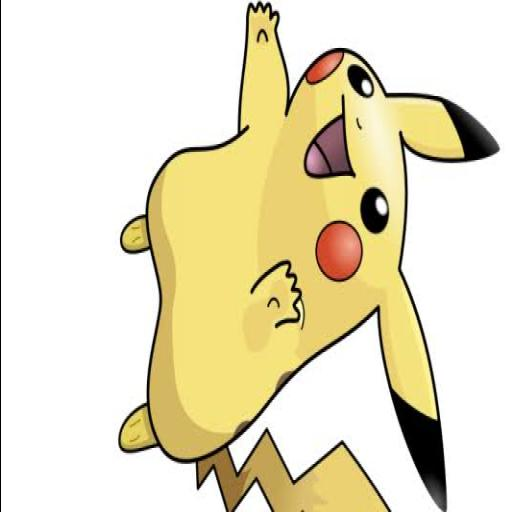Pikachu: (118, 1, 499, 512)
